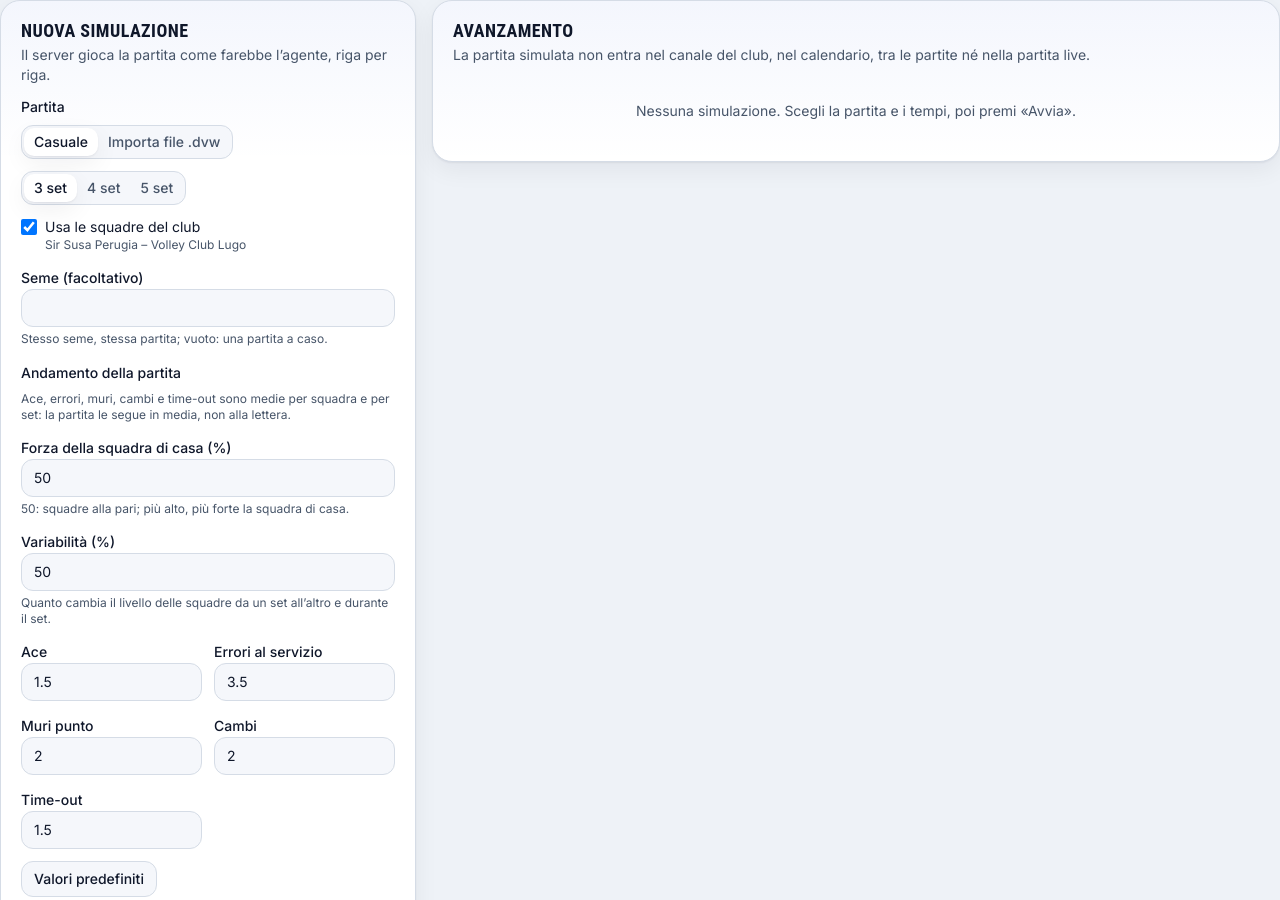
Test: «Simulazione» page › shows «Andamento della partita» only for a random match
The image size is (1280, 900).
Check: the text "Andamento della partita" is shown, box [21, 363, 181, 383]
Step 1. Click the radio button labelled "Importa file .dvw" → (164, 142), box [98, 128, 230, 156]
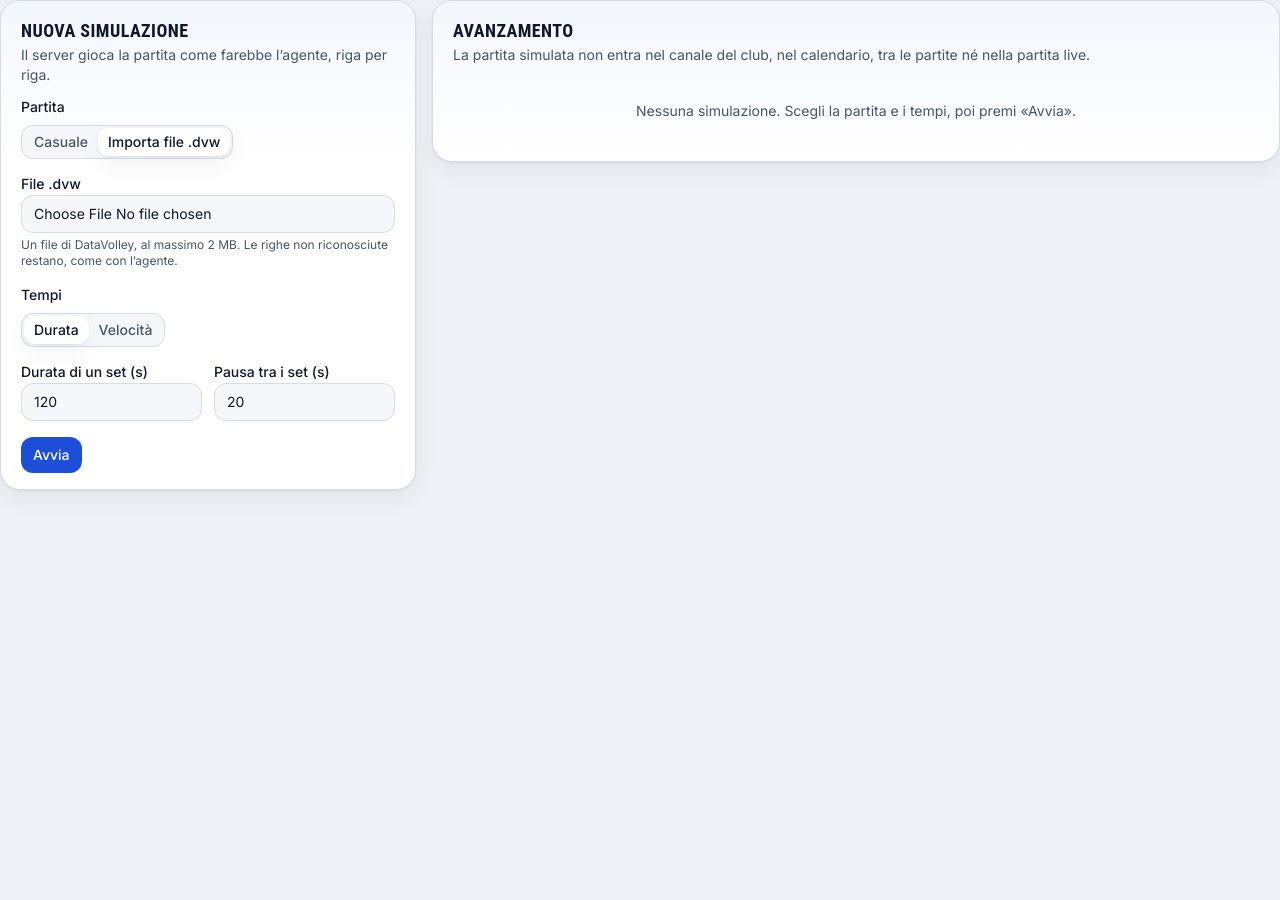
Check: the text "Andamento della partita" is gone
Check: the text labelled "Ace" is gone
